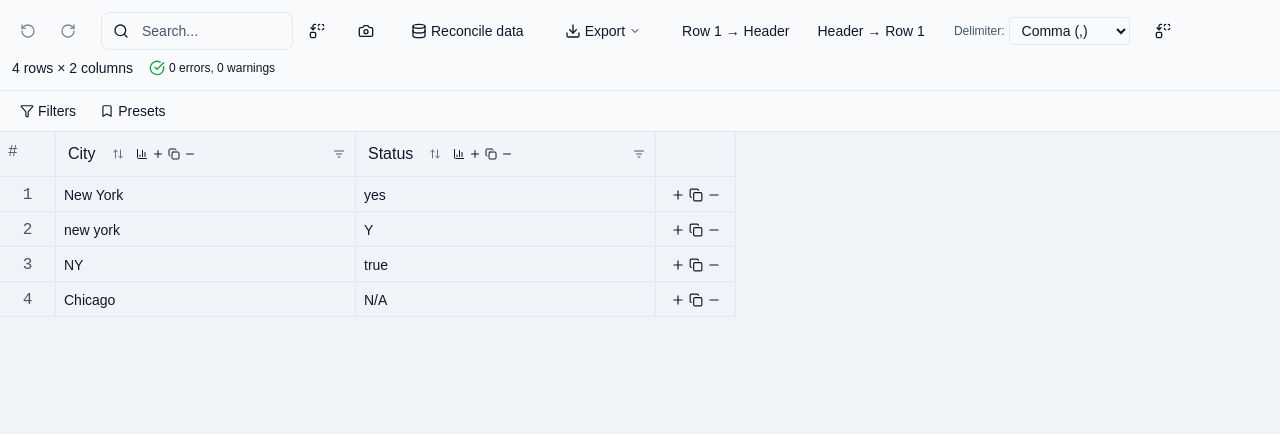
CSV Find & Replace › is a single undo step
Click the button with test id "toggle-replace": point(317, 31) [301,15,333,47]
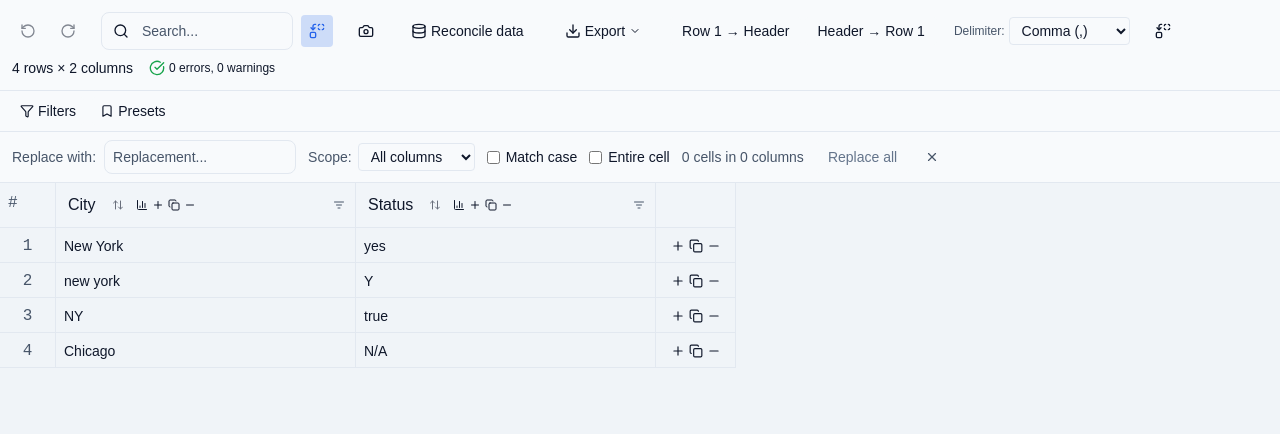
In the field with test id "search-input": point(197, 31) [101,12,293,50], type "Chicago"
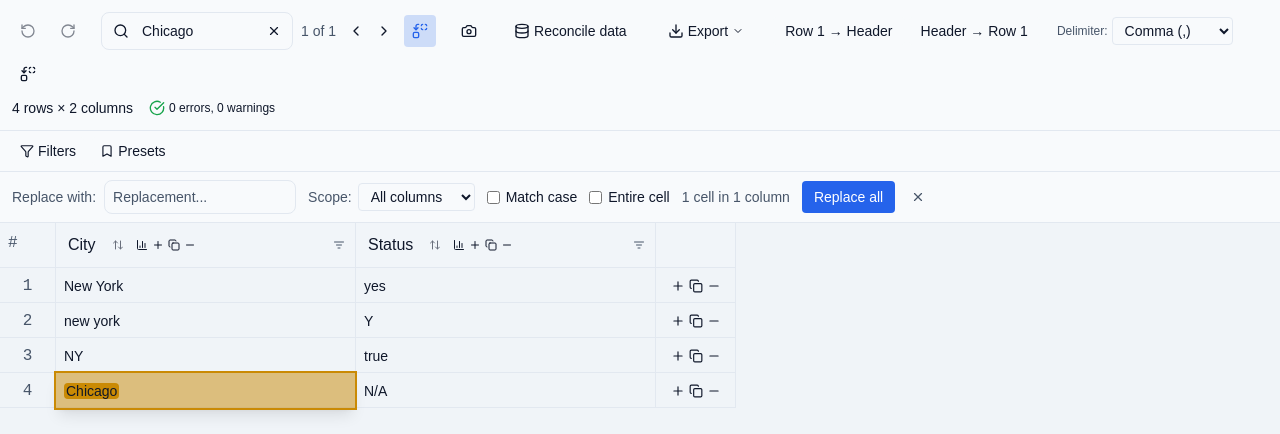
In the field with test id "replace-input": point(200, 197) [104,180,296,214], type "NYC"
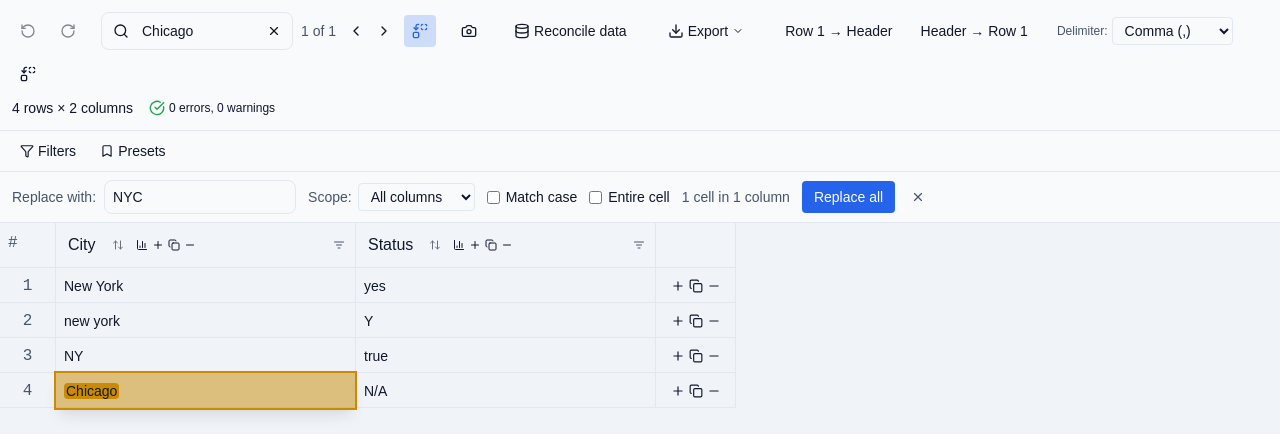
Click the button with test id "replace-all-button": point(849, 197) [802,181,895,213]
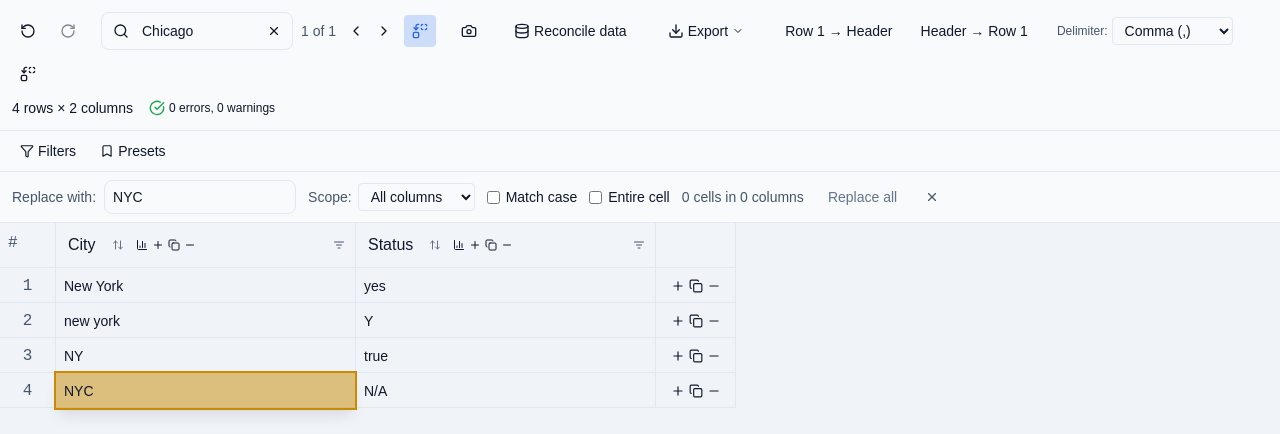
Click the button with test id "undo-button": point(28, 31) [12,15,44,47]
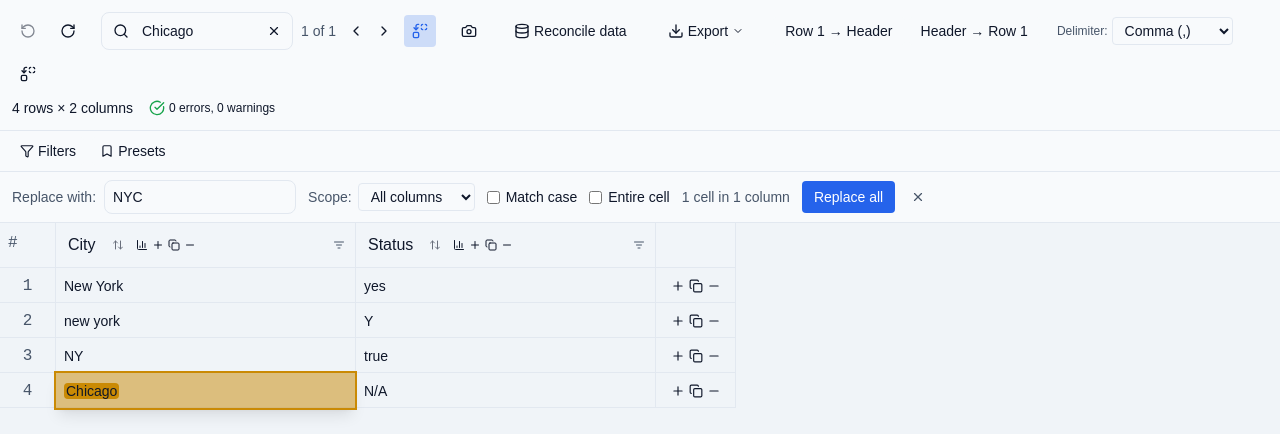
Check: the text "Chicago" is shown, box [64,382,119,398]
